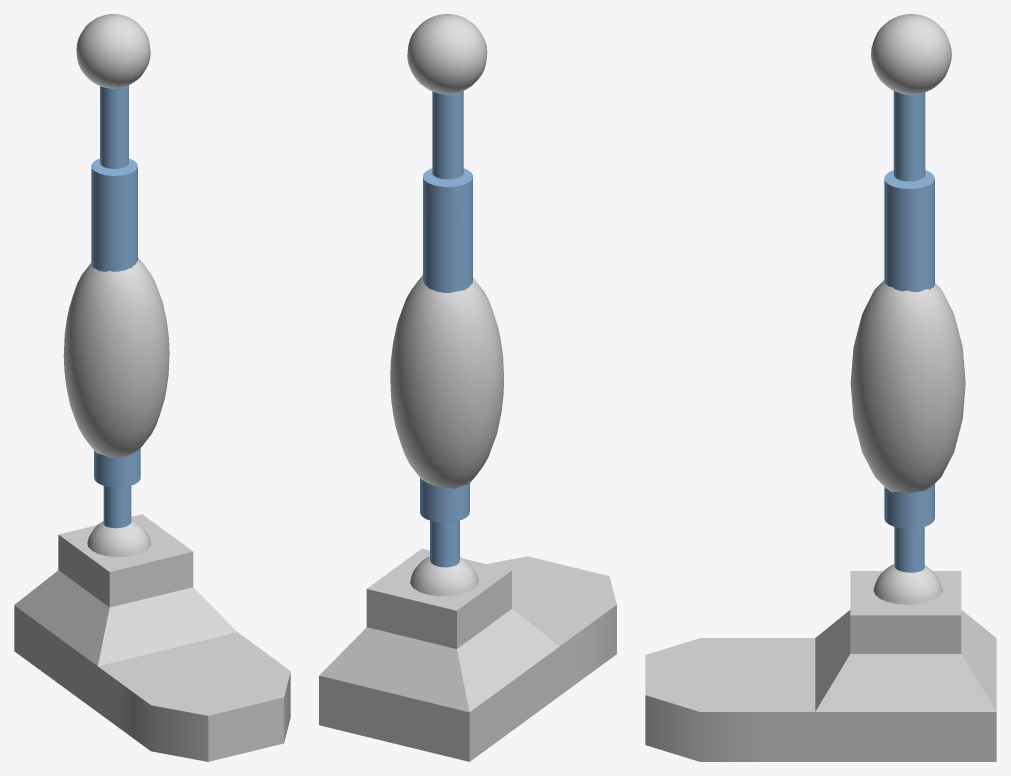
File: DetaLeftLeg.fbx
3 views of the same model, side by side, from view 1: azimuth 30°, elevation 25°; view 2: azimuth 150°, elevation 25°; view 3: azimuth 270°, elevation 25° (orthographic). The views are drawn at different scales.
Parts seen in each view (by area): view 1: DetaLeftLeg; view 2: DetaLeftLeg; view 3: DetaLeftLeg.
Part boxes in pixels (<box>): DetaLeftLeg: <box>14,14,290,761</box>; DetaLeftLeg: <box>319,14,616,761</box>; DetaLeftLeg: <box>645,14,996,761</box>.
Size of the model in its own units: 0.4282 by 1.9 by 0.8593.
